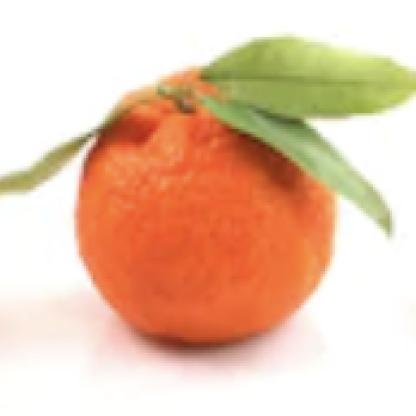fresh: (75, 56, 339, 343)
